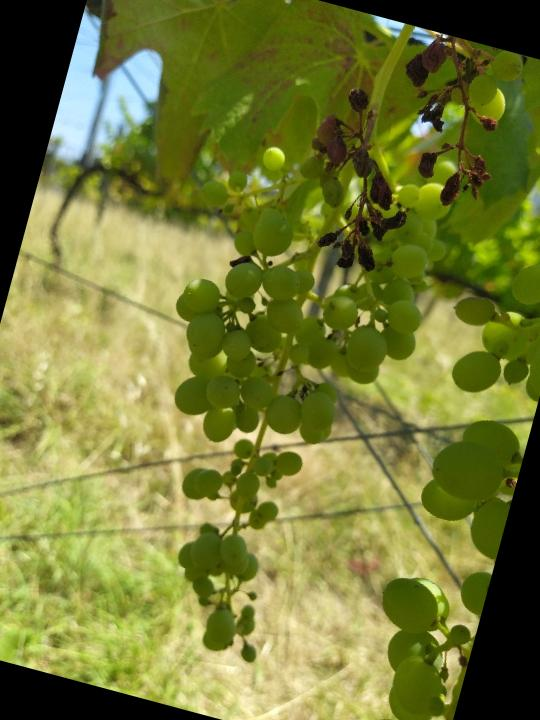grape: (83, 102, 472, 693), (278, 8, 526, 305)
